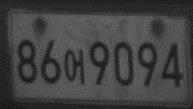0: (112, 40, 135, 86)
4: (160, 41, 183, 88)
6: (39, 38, 61, 84)
8: (15, 38, 38, 84)
9: (137, 41, 158, 87), (89, 41, 109, 86)
어: (63, 47, 85, 86)
